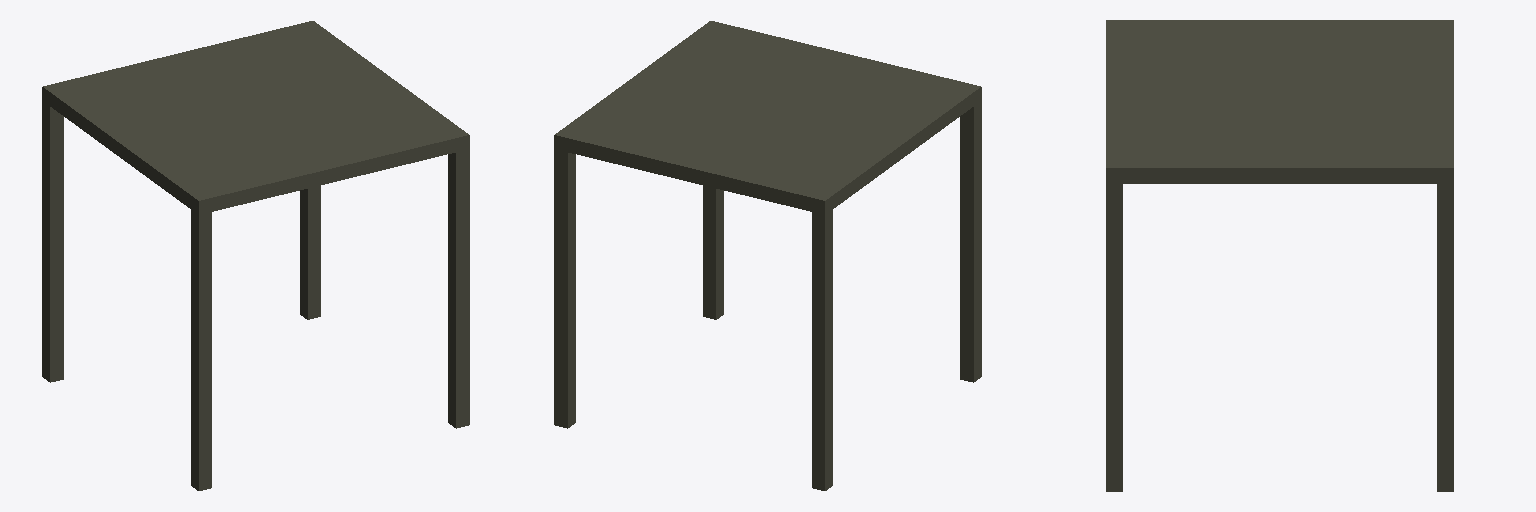
The robot description file, URDF, robot "table":
<?xml version="1.0" ?>
<robot name="table">

    <material name="aluminium">
        <color rgba="0.35 0.35 0.30 1"/>
    </material>

    <link name="base_link"/>
    <!-- Define the table top link -->
    <link name="table_top_link">
        <visual>
            <origin xyz="0 0 0" rpy="0 0 0"/>
            <geometry>
                <box size="0.8 0.8 0.04"/>
            </geometry>
            <material name="aluminium"/>
        </visual>
        <collision>
            <origin xyz="0 0 0" rpy="0 0 0"/>
            <geometry>
                <box size="0.8 0.8 0.04"/>
            </geometry>
        </collision>
        <inertial>
            <mass value="10.0"/>
            <origin xyz="0 0 0" rpy="0 0 0"/>
            <inertia ixx="0.166667" ixy="0.0" ixz="0.0" iyy="0.166667" iyz="0.0" izz="0.00625"/>
        </inertial>
    </link>

    <!-- Define the table leg links -->
    <link name="table_leg_link_1">
        <visual>
            <origin xyz="0 0 0" rpy="0 0 0"/>
            <geometry>
                <box size="0.04 0.04 0.78"/>
            </geometry>
            <material name="aluminium"/>
        </visual>
        <collision>
            <origin xyz="0 0 0" rpy="0 0 0"/>
            <geometry>
                <box size="0.04 0.04 0.78"/>
            </geometry>
        </collision>
        <inertial>
            <mass value="2.0"/>
            <origin xyz="0.45 0.45 -0.2" rpy="0 0 0"/>
            <inertia ixx="0.001667" ixy="0.0" ixz="0.0" iyy="0.001667" iyz="0.0" izz="0.00008333"/>
        </inertial>
    </link>
    <link name="table_leg_link_2">
        <visual>
            <origin xyz="0 0 0" rpy="0 0 0"/>
            <geometry>
                <box size="0.04 0.04 0.78"/>
            </geometry>
            <material name="aluminium"/>
        </visual>
        <collision>
            <origin xyz="0 0 0" rpy="0 0 0"/>
            <geometry>
                <box size="0.04 0.04 0.78"/>
            </geometry>
        </collision>
        <inertial>
            <mass value="2.0"/>
            <origin xyz="0.45 0.45 -0.2" rpy="0 0 0"/>
            <inertia ixx="0.001667" ixy="0.0" ixz="0.0" iyy="0.001667" iyz="0.0" izz="0.00008333"/>
        </inertial>
    </link>
    <link name="table_leg_link_3">
        <visual>
            <origin xyz="0 0 0" rpy="0 0 0"/>
            <geometry>
                <box size="0.04 0.04 0.78"/>
            </geometry>
            <material name="aluminium"/>
        </visual>
        <collision>
            <origin xyz="0 0 0" rpy="0 0 0"/>
            <geometry>
                <box size="0.04 0.04 0.78"/>
            </geometry>
        </collision>
        <inertial>
            <mass value="2.0"/>
            <origin xyz="0.45 0.45 -0.2" rpy="0 0 0"/>
            <inertia ixx="0.001667" ixy="0.0" ixz="0.0" iyy="0.001667" iyz="0.0" izz="0.00008333"/>
        </inertial>
    </link>
    <link name="table_leg_link_4">
        <visual>
            <origin xyz="0 0 0" rpy="0 0 0"/>
            <geometry>
                <box size="0.04 0.04 0.78"/>
            </geometry>
            <material name="aluminium"/>
        </visual>
        <collision>
            <origin xyz="0 0 0" rpy="0 0 0"/>
            <geometry>
                <box size="0.04 0.04 0.78"/>
            </geometry>
        </collision>
        <inertial>
            <mass value="2.0"/>
            <origin xyz="0.45 0.45 -0.2" rpy="0 0 0"/>
            <inertia ixx="0.001667" ixy="0.0" ixz="0.0" iyy="0.001667" iyz="0.0" izz="0.00008333"/>
        </inertial>
    </link>

    <!-- Define the table joints -->

    <joint name="base_link_2_top_link" type="fixed">
        <parent link="base_link"/>
        <child link="table_top_link"/>
        <origin xyz="0.4 0.4 -0.02" rpy="0 0 0"/>
        # We offset the start of the table (i.e. the table_top_link) to its corner with (0.4, 0.4) offset
        # We also push out the origin to mount the table at its top 0.02 is half the thickness of the table top
    </joint>
    <joint name="table_leg1_joint" type="fixed">
        <parent link="table_top_link"/>
        <child link="table_leg_link_1"/>
        <origin xyz="-0.38 -0.38 -0.41" rpy="0 0 0"/>
        # z = -0.39 is half the height of the table leg and -0.02 is half the thickness of the table top
    </joint>

    <joint name="table_leg2_joint" type="fixed">
        <parent link="table_top_link"/>
        <child link="table_leg_link_2"/>
        <origin xyz="-0.38 0.38 -0.41" rpy="0 0 0"/>
    </joint>

    <joint name="table_leg3_joint" type="fixed">
        <parent link="table_top_link"/>
        <child link="table_leg_link_3"/>
        <origin xyz="0.38 -0.38 -0.41" rpy="0 0 0"/>
    </joint>

    <joint name="table_leg4_joint" type="fixed">
        <parent link="table_top_link"/>
        <child link="table_leg_link_4"/>
        <origin xyz="0.38 0.38 -0.41" rpy="0 0 0"/>
    </joint>

    <!-- Virtual links, i.e. useful frames -->
    <!-- Add  centering joint -->
    <link name="table_centre"/> <!-- virtual link to indicate -->

    <joint name="table_top_2_centre" type="fixed">
        <parent link="table_top_link"/>
        <child link="table_centre"/>
        <origin xyz="0 0 0.02" rpy="0 0 0"/>
    </joint>

</robot>

--- What the picture shows (computed from the rendered views, not written in the file) ---
3 views of the same robot in one strip: view 1: azimuth 30°, elevation 25°; view 2: azimuth 150°, elevation 25°; view 3: azimuth 270°, elevation 25° (orthographic).
Robot: table — 7 links, 6 joints (6 fixed); root link base_link; default pose: all joints at 0.
Links seen in each view (by area): view 1: table_top_link, table_leg_link_3, table_leg_link_2, table_leg_link_1, table_leg_link_4; view 2: table_top_link, table_leg_link_4, table_leg_link_1, table_leg_link_2, table_leg_link_3; view 3: table_top_link, table_leg_link_3, table_leg_link_4.
Link boxes in pixels (x1,y1,x2,y2): table_top_link: (42, 21, 469, 214); table_leg_link_3: (448, 149, 469, 428); table_leg_link_2: (42, 101, 63, 382); table_leg_link_1: (191, 210, 211, 490); table_leg_link_4: (300, 185, 320, 319); table_top_link: (554, 21, 981, 214); table_leg_link_4: (554, 149, 575, 428); table_leg_link_1: (960, 101, 981, 382); table_leg_link_2: (812, 210, 832, 490); table_leg_link_3: (703, 185, 723, 319); table_top_link: (1106, 20, 1453, 183); table_leg_link_3: (1106, 184, 1122, 491); table_leg_link_4: (1437, 184, 1453, 491).
Size in the robot's own frame: 0.8 by 0.8 by 0.82 metres.
Geometry: primitives only (box / cylinder / sphere), no mesh files.